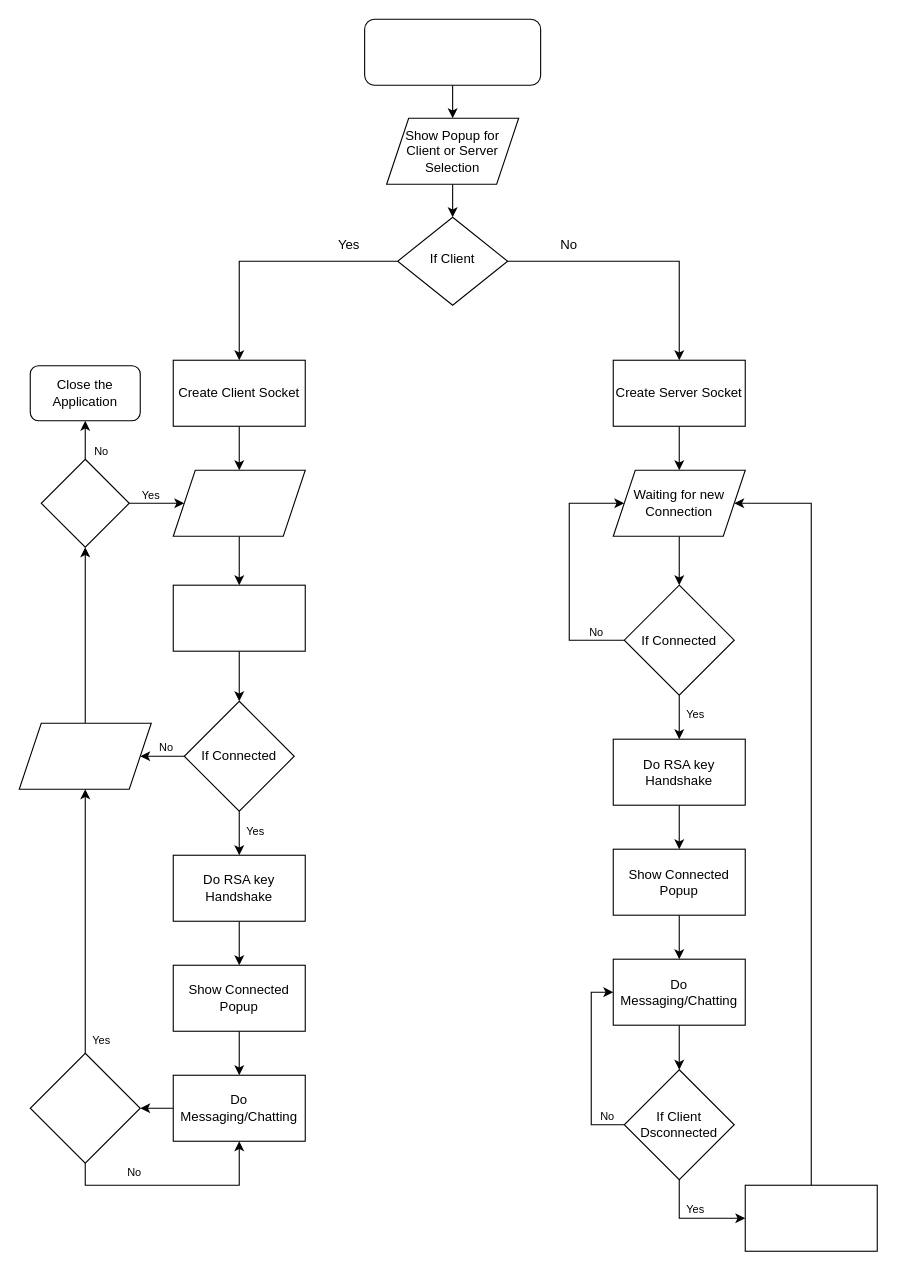
This 897x1271 diagram has some shape labels left out. The centre of each missing label's shape, as x and y in pixels:
If Server Dsconnected: the point at 84,1107
If TryAgain: the point at 84,502
Initialize GUI Window: the point at 452,51
Show Disconnected Popup: the point at 810,1217
Show popup for IP and Port of the server: the point at 238,502
Show Popup for Try Again: the point at 84,755
Try to Connect to the Server: the point at 238,617
